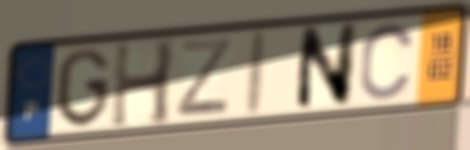C: (357, 21, 417, 103)
G: (54, 45, 112, 130)
H: (108, 36, 179, 132)
I: (240, 26, 270, 121)
N: (293, 20, 360, 114)
Z: (173, 36, 234, 120)
